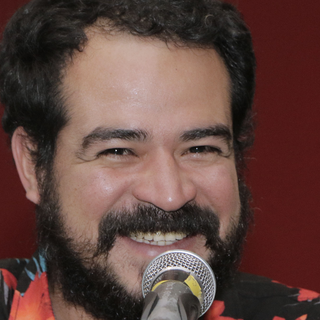eye: (93, 141, 142, 165), (180, 139, 226, 163)
